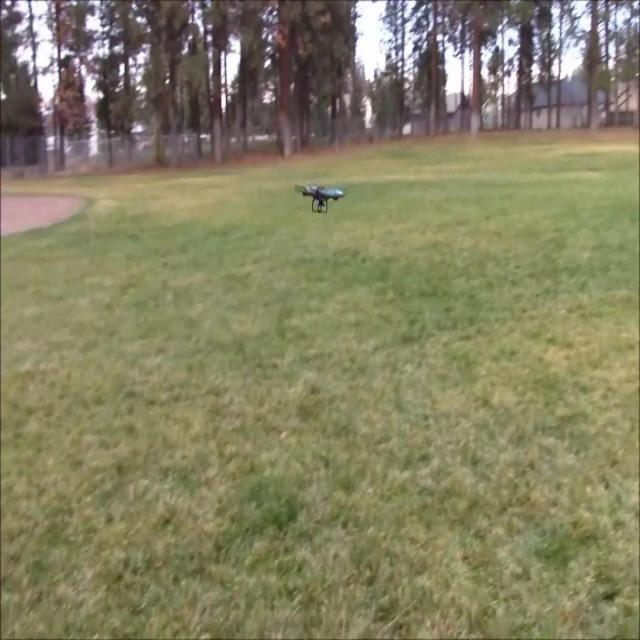UAV: (294, 184, 346, 213)
